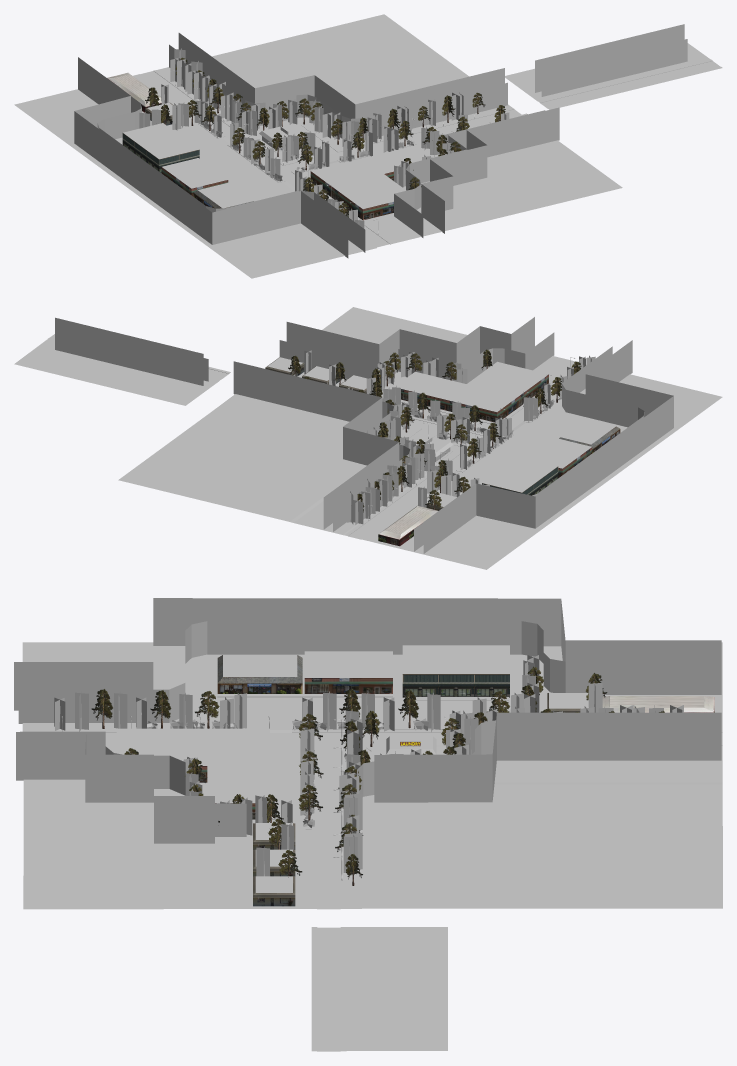
Rendered from Laundry.fbx.
The picture shows the model from 3 angles, top to bottom: view 1: azimuth 30°, elevation 25°; view 2: azimuth 150°, elevation 25°; view 3: azimuth 270°, elevation 25°; orthographic projection. The views are drawn at different scales.
Visible parts, largest first — view 1: Terrain, Background_01, Terrain_01, Terrain_02, Background_02, Background, Background_01_001.001, building_002, Background_01_001, Background.001, Trees_03, building_04 (+22 smaller); view 2: Terrain, Background_01, Terrain_01, Background, Background_02, Background.001, Terrain.002, Background_01_02, Terrain_02, building_002, Background_01_01, Trees_03 (+17 smaller); view 3: Terrain, Terrain_02, Background_01_01, Background_01, Background, Terrain.002, Terrain_01, Background_02, building_04, building_002, Trees_08, building_001 (+21 smaller).
Part boxes in pixels (x1,y1,x2,y2): Terrain: (140,14,521,247); Background_01: (74,57,348,258); Terrain_01: (14,75,373,278); Terrain_02: (302,140,622,243); Background_02: (421,107,559,233); Background: (178,33,504,118); Background_01_001.001: (541,39,687,96); building_002: (310,158,406,220); Background_01_001: (169,44,507,140); Background.001: (535,24,684,92); Trees_03: (170,48,250,127); building_04: (122,123,199,173); Terrain: (118,365,586,539); Background_01: (423,340,673,553); Terrain_01: (365,374,722,569); Background: (233,361,399,529); Background_02: (286,317,534,363); Background.001: (55,317,203,385); Terrain.002: (14,339,218,405); Background_01_02: (279,332,554,383); Terrain_02: (298,307,575,429); building_002: (445,361,548,422); Background_01_01: (414,346,644,551); Trees_03: (346,448,426,524); Terrain: (105,733,722,909); Terrain_02: (23,745,317,909); Background_01_01: (18,621,721,723); Background_01: (14,598,721,710); Background: (374,712,721,802); Terrain.002: (346,927,447,1050); Terrain_01: (22,642,722,732); Background_02: (16,732,214,843); building_04: (402,645,509,697); building_002: (116,728,269,782); Trees_08: (54,689,246,731); building_001: (304,651,392,693).
Bounding box in the file's own units: 32089 × 1843 × 23501.
